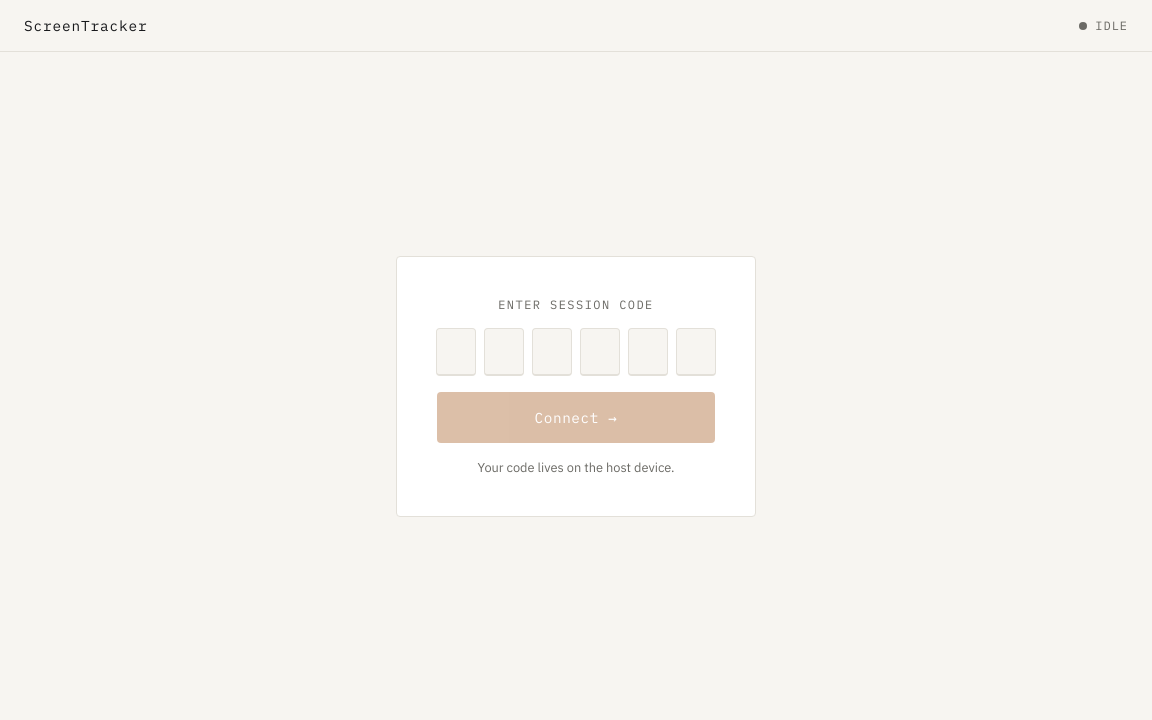
App › shows a human-readable error when the session has expired
The image size is (1152, 720).
Type "X" into the field named "Digit 1 of 6" at (456,352), box [436,328,476,376]
Type "7" into the field named "Digit 2 of 6" at (504,352), box [484,328,524,376]
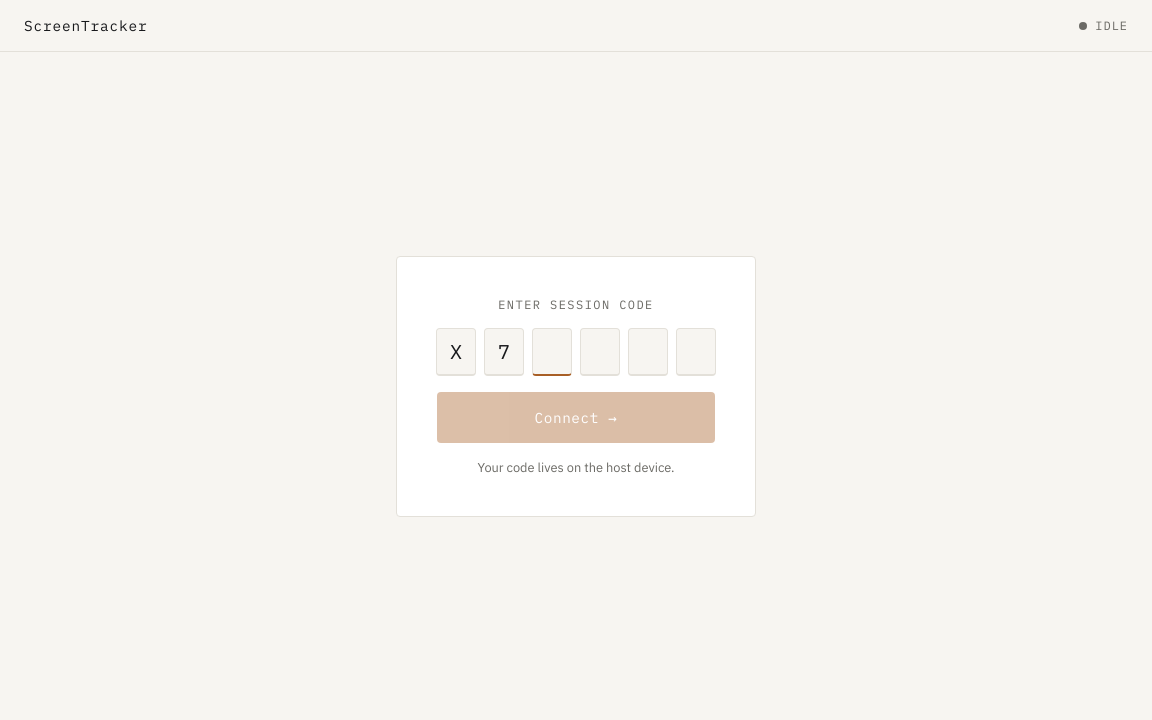
Type "K" into the field named "Digit 3 of 6" at (552,352), box [532,328,572,376]
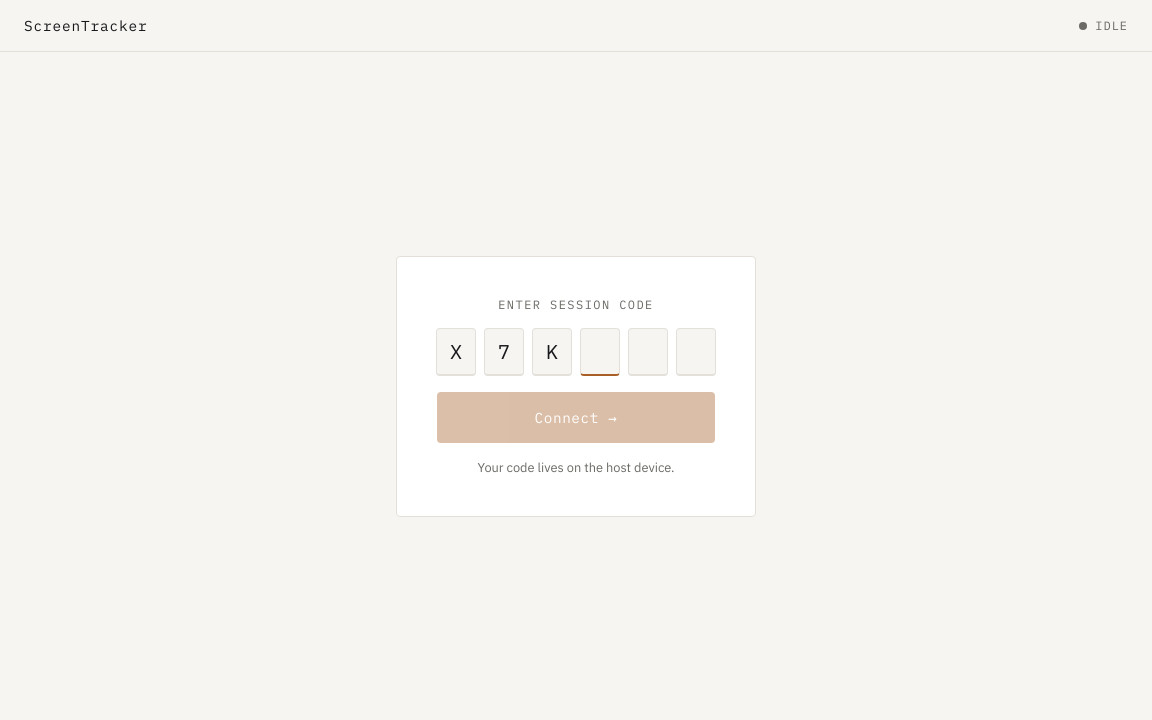
Type "2" into the field named "Digit 4 of 6" at (600,352), box [580,328,620,376]
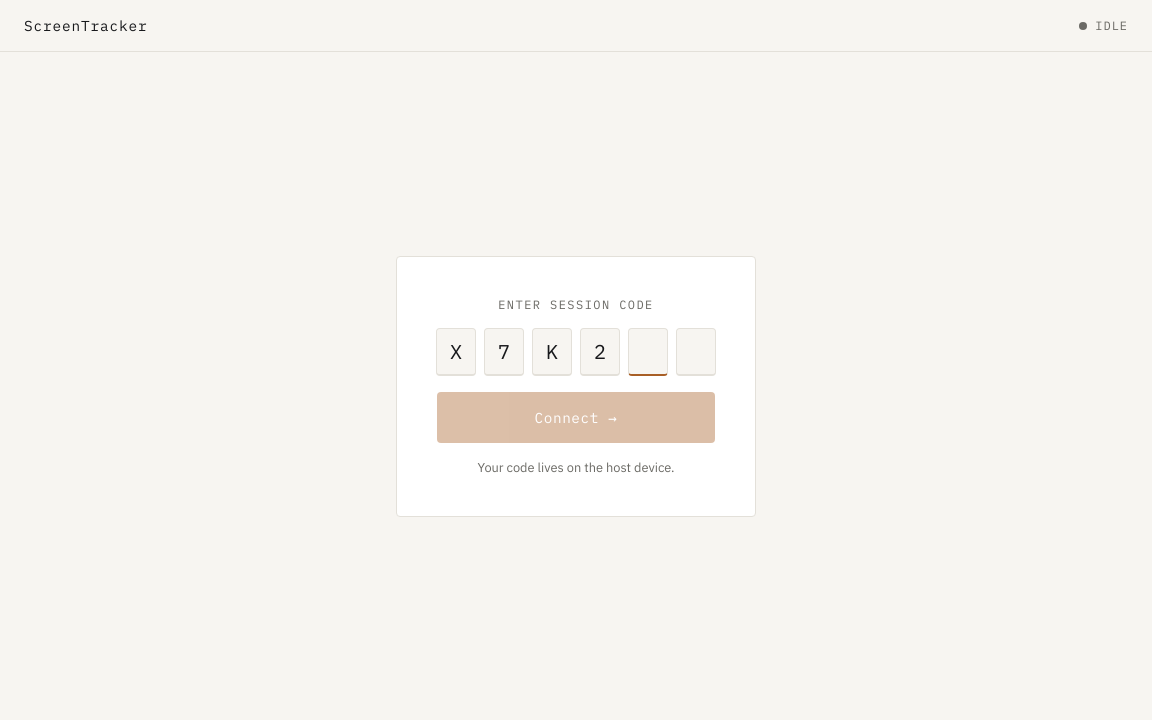
Type "M" into the field named "Digit 5 of 6" at (648,352), box [628,328,668,376]
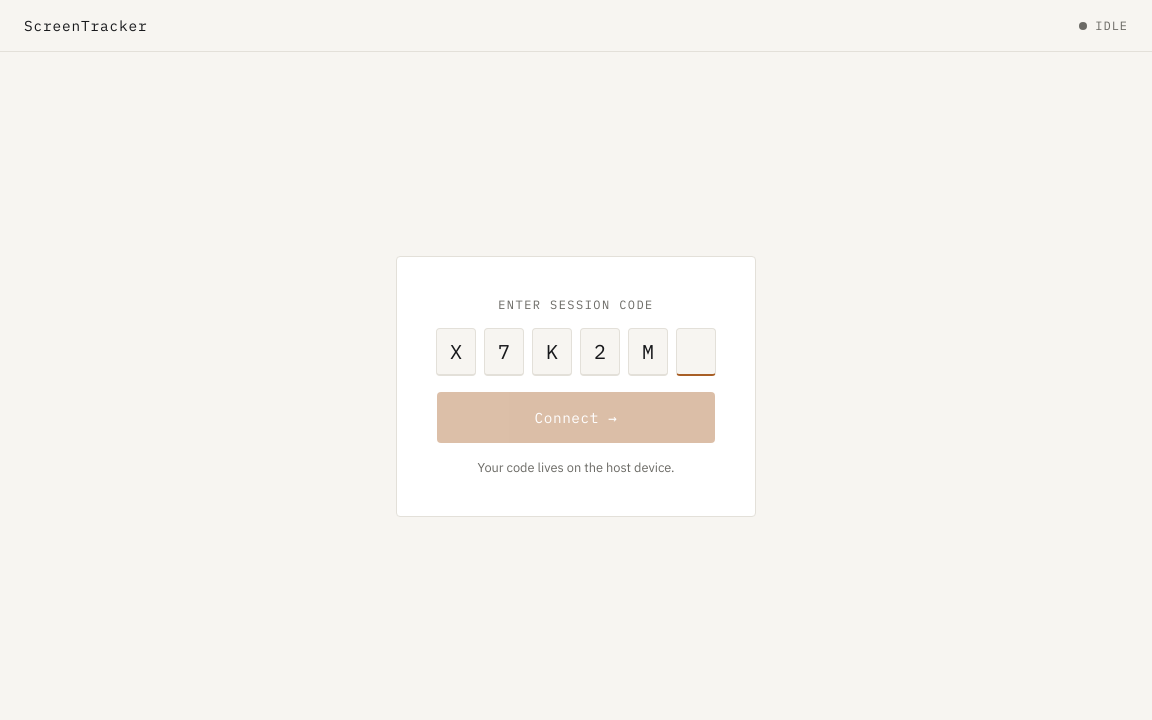
Type "9" into the field named "Digit 6 of 6" at (696,352), box [676,328,716,376]
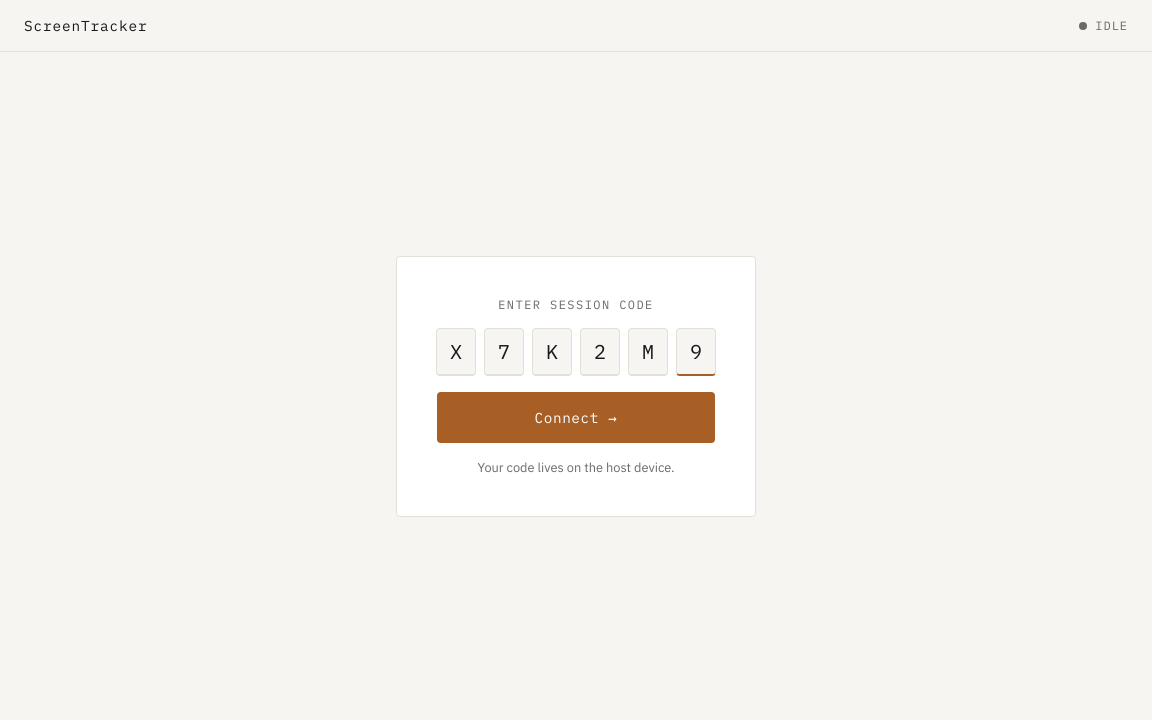
Click the button "Connect →" at (576,417), box [437,392,715,442]
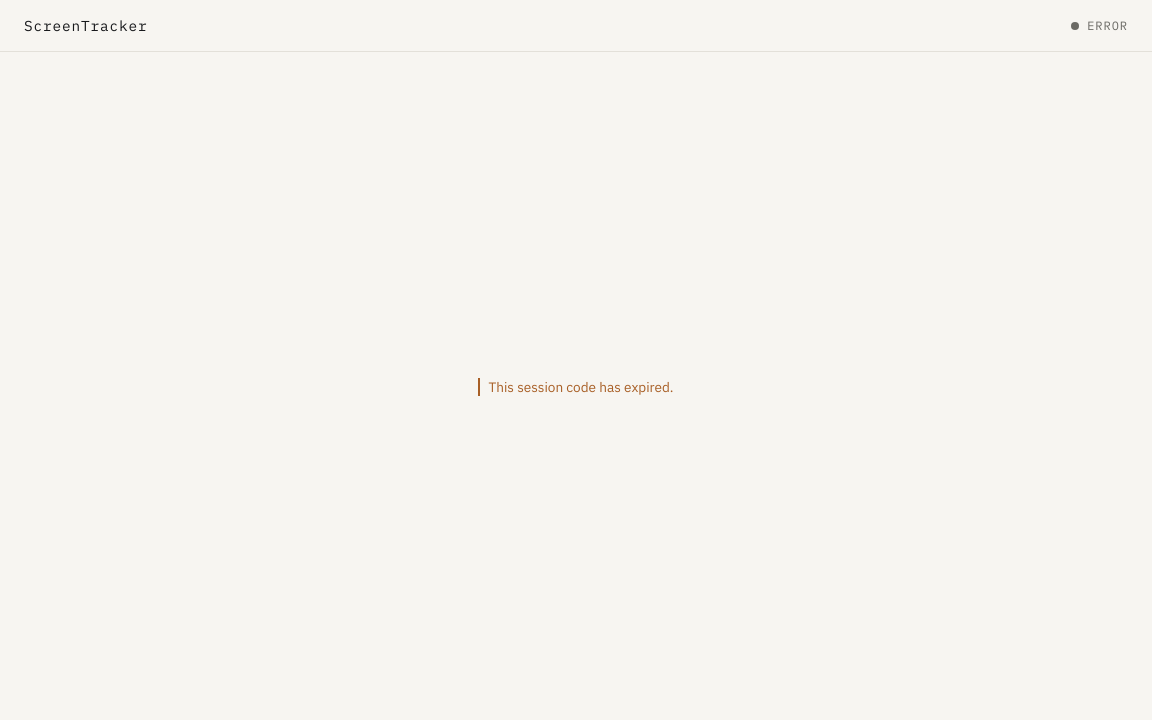
Result: the message reads "This session code has expired." at [488,378,674,396]
